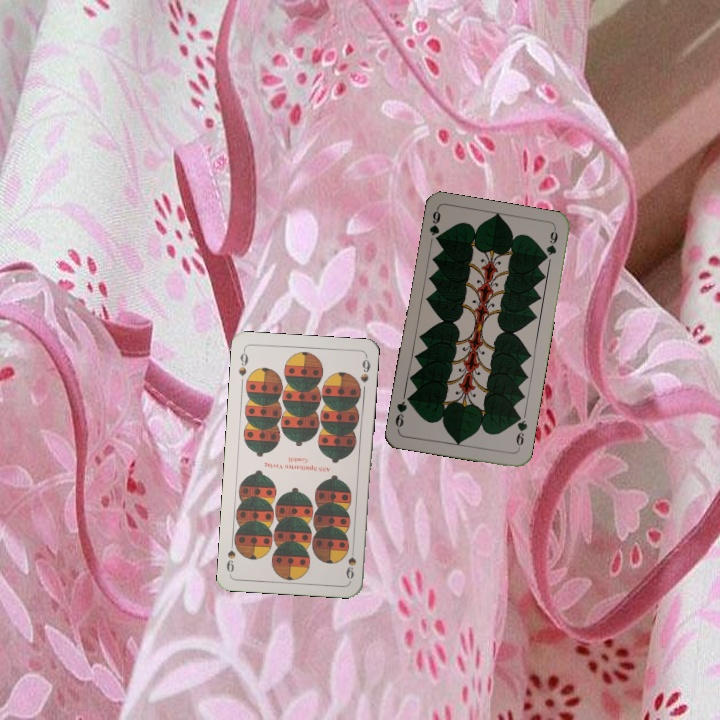G9: (512, 411, 530, 452), (425, 206, 443, 245)
S9: (342, 542, 358, 581), (234, 346, 250, 379)
